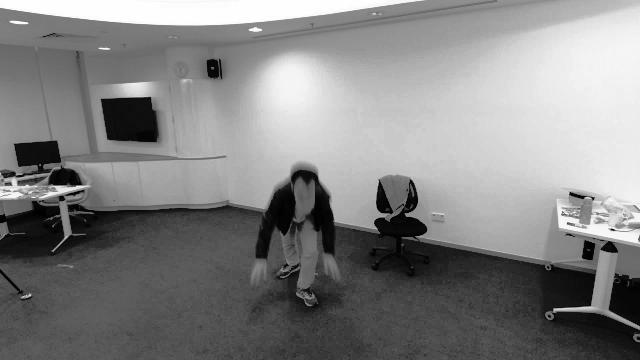jatuh: (250, 164, 348, 312)
